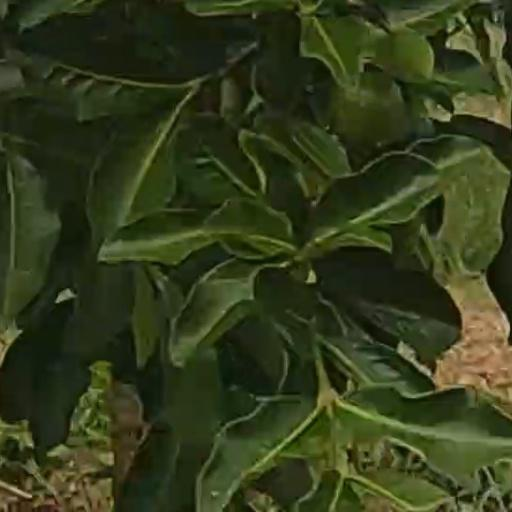acerola_verde: (331, 81, 405, 147)
